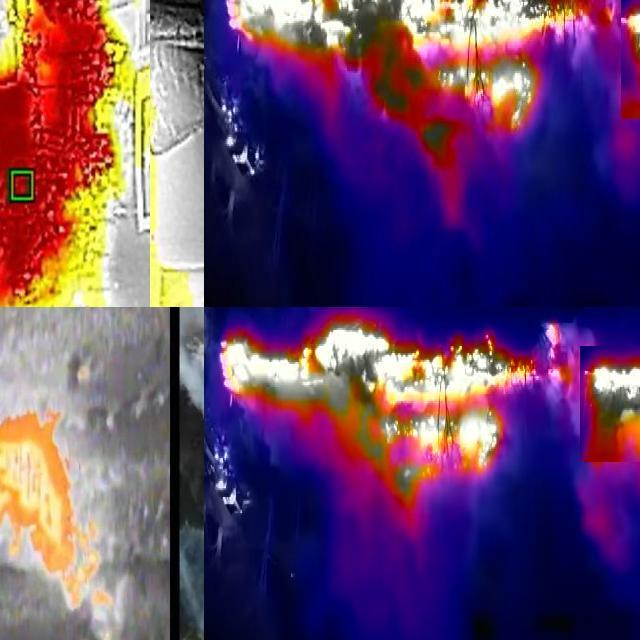fire: (219, 319, 569, 510), (221, 1, 614, 144), (1, 1, 150, 308), (1, 410, 96, 574), (580, 346, 640, 462), (58, 577, 136, 640)
